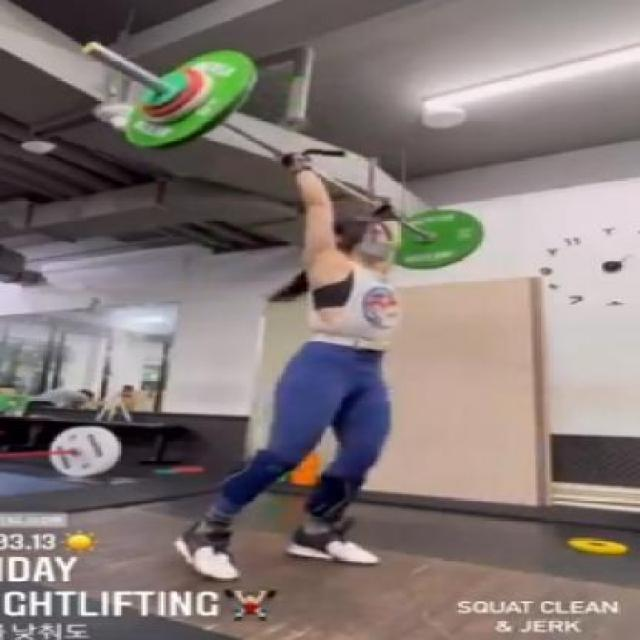Barbell: (72, 36, 108, 59)
